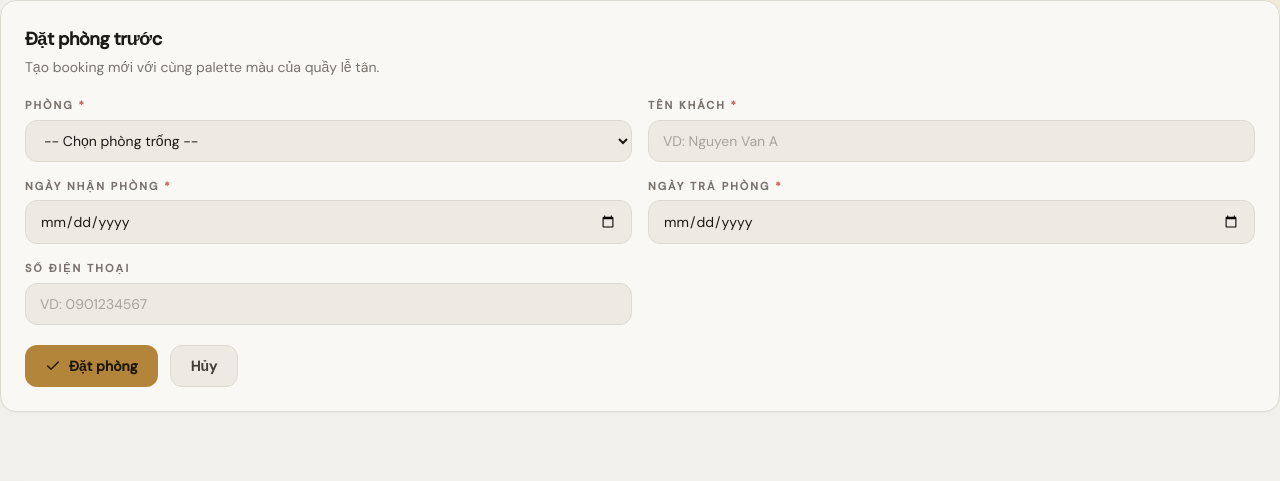
it: CreateBookingForm › shows validation errors when submitting empty form
Click the button "Đặt phòng" at {"x": 91, "y": 366}, box [25,344,158,386]
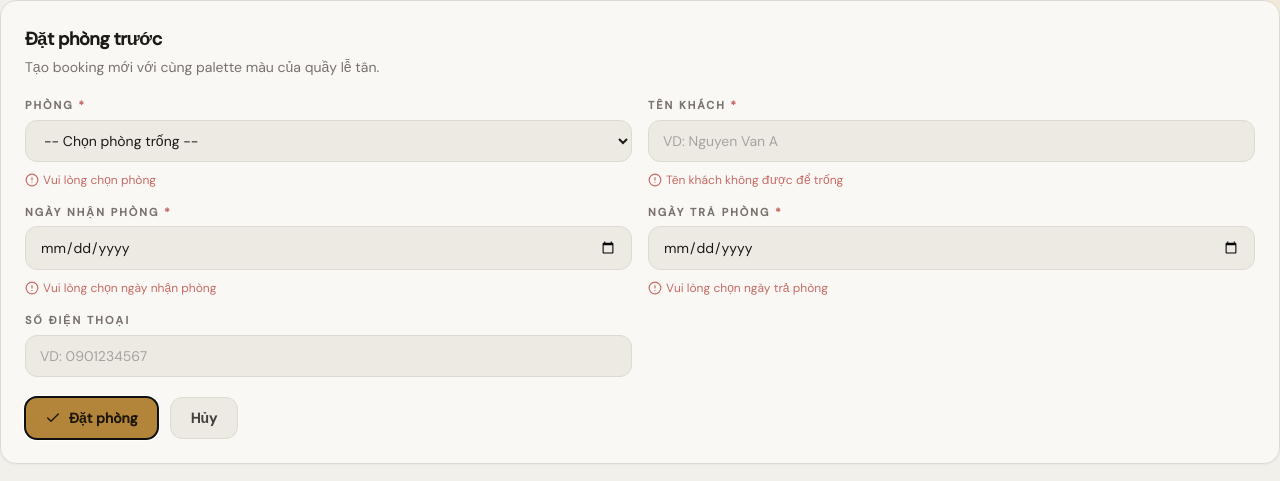
Check: the text "Vui lòng chọn phòng" is shown, box [25,172,156,188]
Check: the text "Vui lòng chọn ngày nhận phòng" is shown, box [25,280,216,296]
Check: the text "Vui lòng chọn ngày trả phòng" is shown, box [648,280,828,296]
